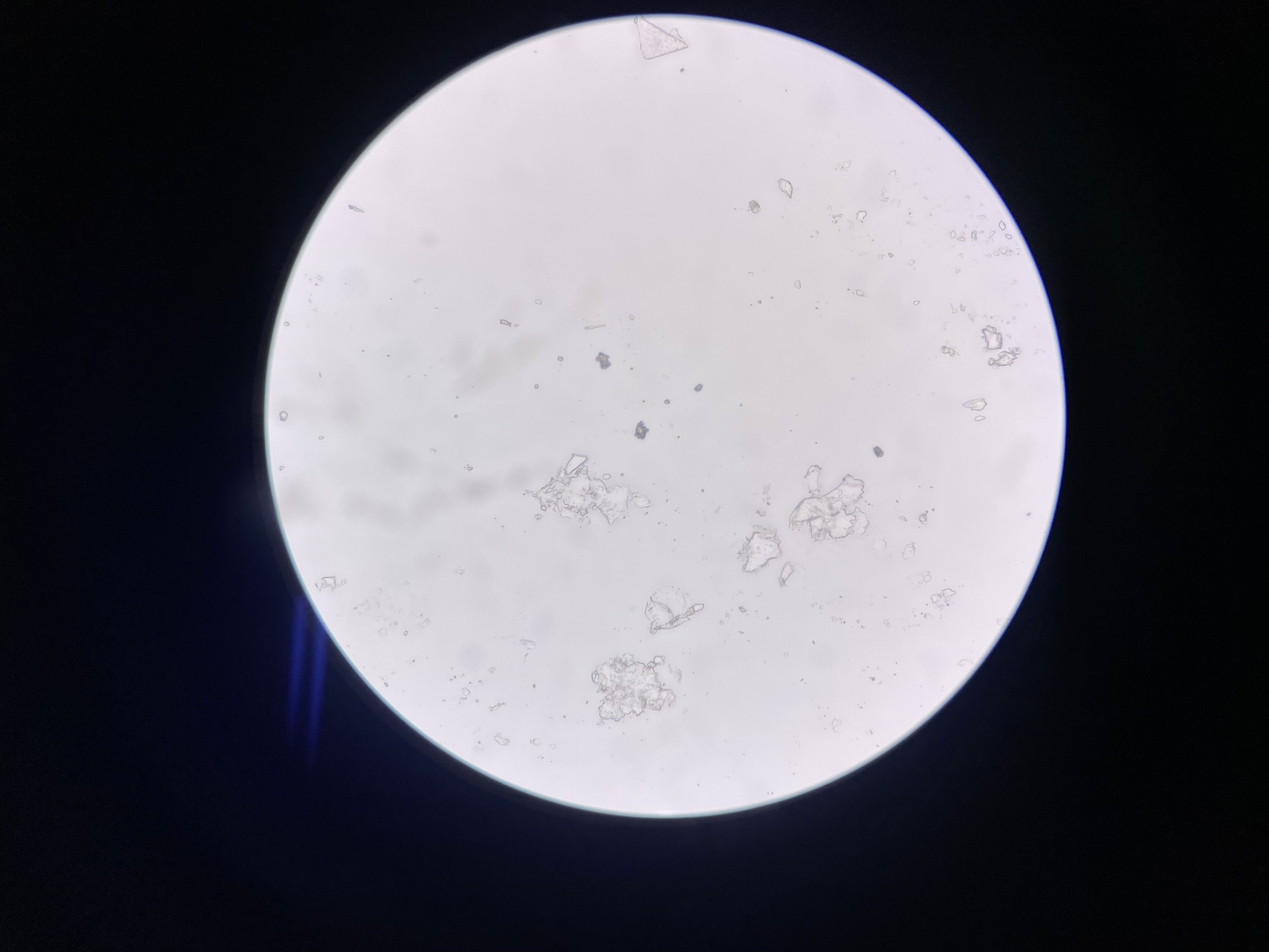microplastic: (523, 452, 660, 528), (589, 652, 687, 726), (787, 465, 874, 543), (645, 583, 703, 640), (625, 16, 693, 61), (734, 525, 781, 570), (926, 586, 960, 611), (964, 393, 991, 422), (317, 571, 352, 592), (980, 327, 1008, 353), (989, 349, 1024, 369), (775, 561, 798, 587), (593, 349, 614, 373), (868, 442, 892, 459), (775, 178, 795, 196), (631, 422, 651, 440), (746, 196, 764, 215), (940, 344, 958, 358), (279, 409, 294, 425), (850, 210, 870, 221), (694, 384, 706, 395)
